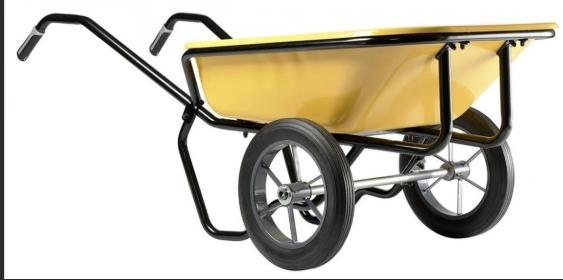BROUETTE: (8, 1, 553, 280), (7, 0, 548, 274)
